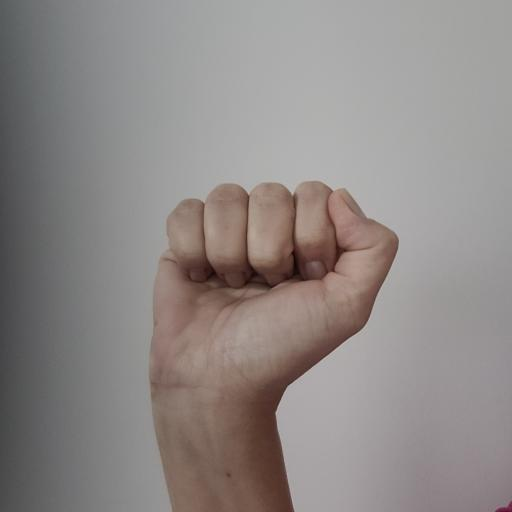A: (144, 180, 398, 417)
